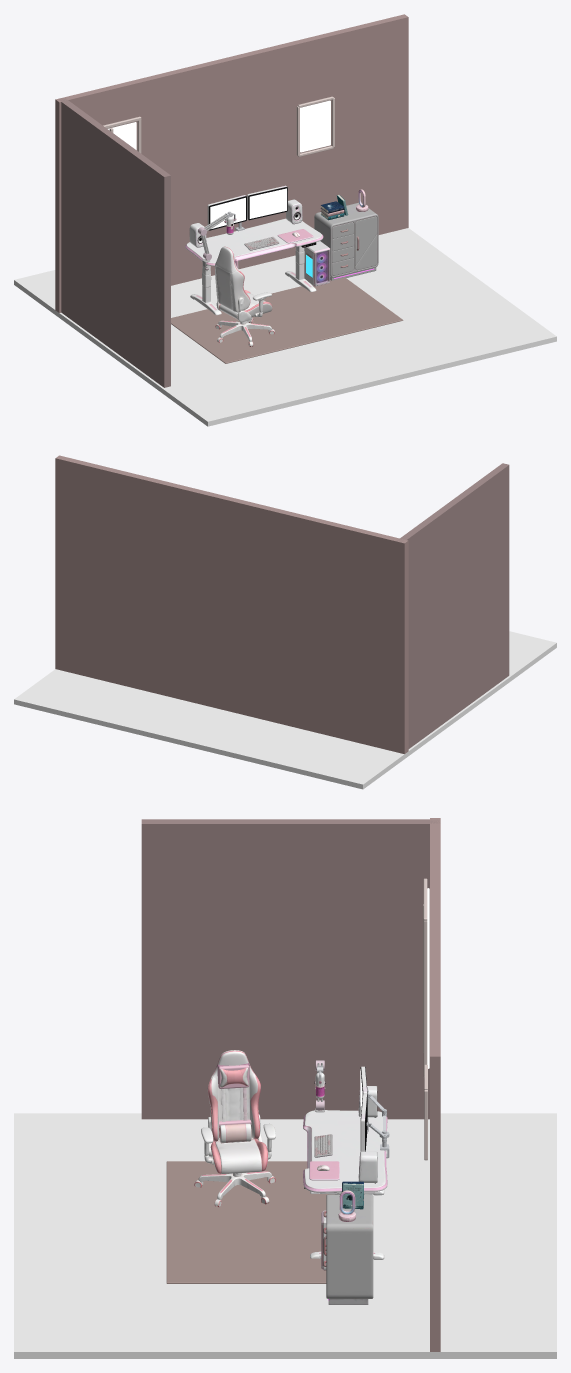
3 views of the same model, one above another, from view 1: azimuth 30°, elevation 25°; view 2: azimuth 150°, elevation 25°; view 3: azimuth 270°, elevation 25° (orthographic). The views are drawn at different scales.
Visible parts, largest first — view 1: Architecture_Back_Wall, Architecture_Floor, Architecture_Left_Wall, Decor_Rug, GEO_Desk_Moving_Top, GEO_Chair_Swivel_Upper, GEO_Cabinet_Body, Wall_Art_Art, GEO_Door_Right_Front, 04-pc-tower_mesh_01, Screen_Right, GEO_Desk_Fixed_Base (+2 smaller); view 2: Architecture_Back_Wall, Architecture_Left_Wall, Architecture_Floor; view 3: Architecture_Floor, Architecture_Left_Wall, Decor_Rug, Architecture_Back_Wall, GEO_Chair_Swivel_Upper, GEO_Cabinet_Body, GEO_Desk_Moving_Top, GEO_Chair_Static_Base, Window_Frame_V.001.
Part boxes in pixels (left/top/right/bottom): Architecture_Back_Wall: left=55, top=14, right=408, bottom=312; Architecture_Floor: left=14, top=228, right=556, bottom=426; Architecture_Left_Wall: left=58, top=98, right=170, bottom=387; Decor_Rug: left=171, top=277, right=403, bottom=363; GEO_Desk_Moving_Top: left=185, top=218, right=323, bottom=274; GEO_Chair_Swivel_Upper: left=215, top=246, right=272, bottom=321; GEO_Cabinet_Body: left=314, top=202, right=378, bottom=280; Wall_Art_Art: left=300, top=100, right=330, bottom=152; GEO_Door_Right_Front: left=355, top=216, right=377, bottom=270; 04-pc-tower_mesh_01: left=304, top=241, right=330, bottom=286; Screen_Right: left=249, top=188, right=286, bottom=218; GEO_Desk_Fixed_Base: left=190, top=263, right=316, bottom=315; Architecture_Back_Wall: left=55, top=455, right=408, bottom=753; Architecture_Left_Wall: left=396, top=463, right=509, bottom=748; Architecture_Floor: left=14, top=631, right=556, bottom=789; Architecture_Floor: left=14, top=1113, right=556, bottom=1358; Architecture_Left_Wall: left=141, top=819, right=440, bottom=1119; Decor_Rug: left=166, top=1161, right=334, bottom=1283; Architecture_Back_Wall: left=430, top=818, right=440, bottom=1351; GEO_Chair_Swivel_Upper: left=201, top=1050, right=275, bottom=1173; GEO_Cabinet_Body: left=326, top=1194, right=373, bottom=1304; GEO_Desk_Moving_Top: left=303, top=1110, right=387, bottom=1194; GEO_Chair_Static_Base: left=194, top=1171, right=275, bottom=1206; Window_Frame_V.001: left=423, top=921, right=427, bottom=1075.
Bounding box in the file's own units: 5.2 × 3.07 × 5.
32 materials, 13 textured.
